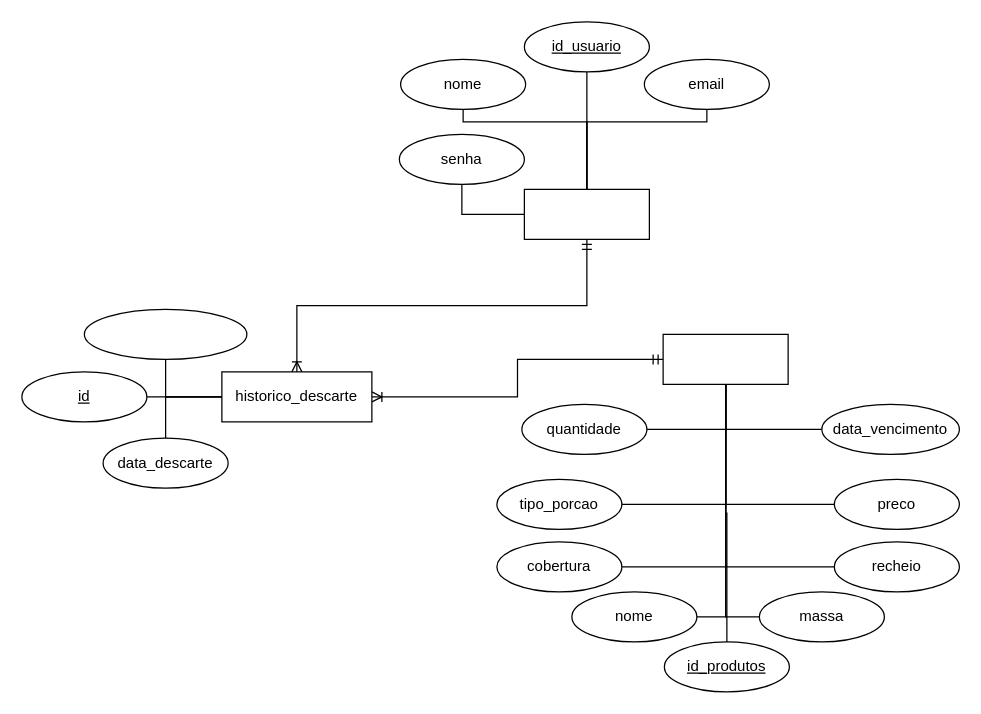
This 981x714 diagram has some shape labels left out. The centre of each missing label's shape, as x and y in pixels:
"produtos" belongs at (725,358).
"quantidade_descarte" belongs at (165,333).
"usuarios" belongs at (586,213).
